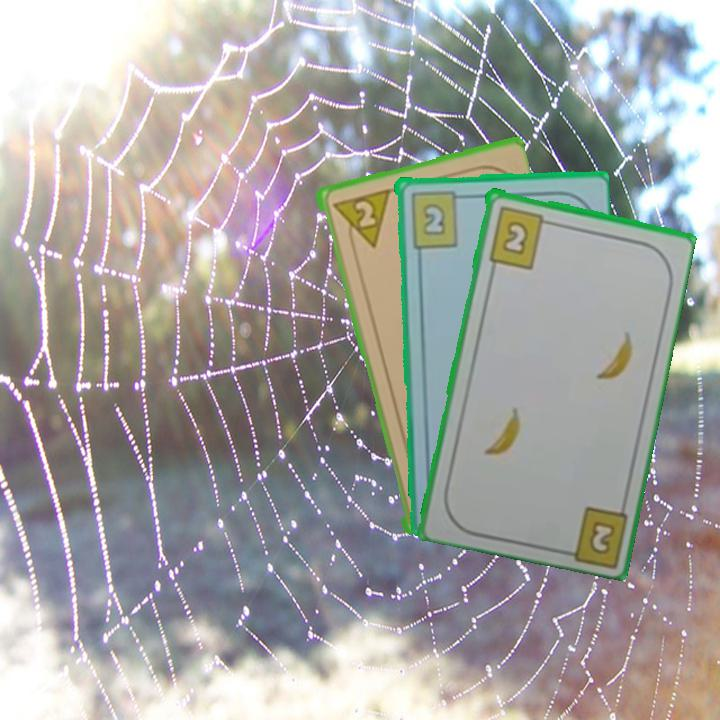2b: (485, 202, 555, 271), (407, 187, 468, 250), (585, 517, 618, 558)
2p: (328, 185, 392, 254)
